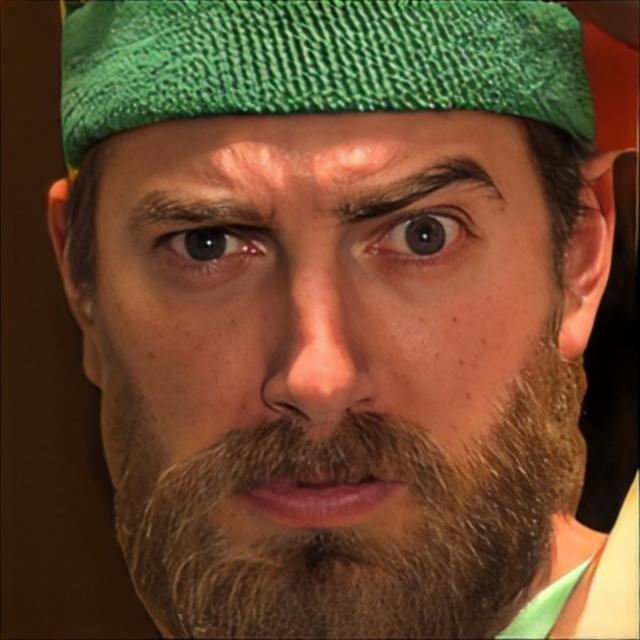fear: (96, 39, 556, 598)
